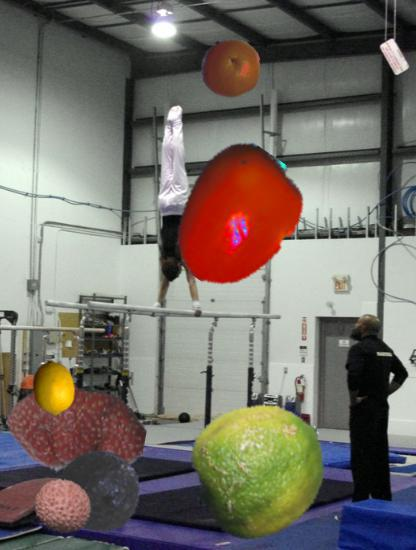Avocado: (53, 444, 144, 535)
Kaki: (164, 146, 308, 290)
Lemon: (26, 360, 82, 416)
Limes: (191, 400, 329, 538)
Lychee: (34, 477, 94, 537)
Strawberry: (5, 364, 146, 505)
Tangelo: (200, 37, 262, 99)
